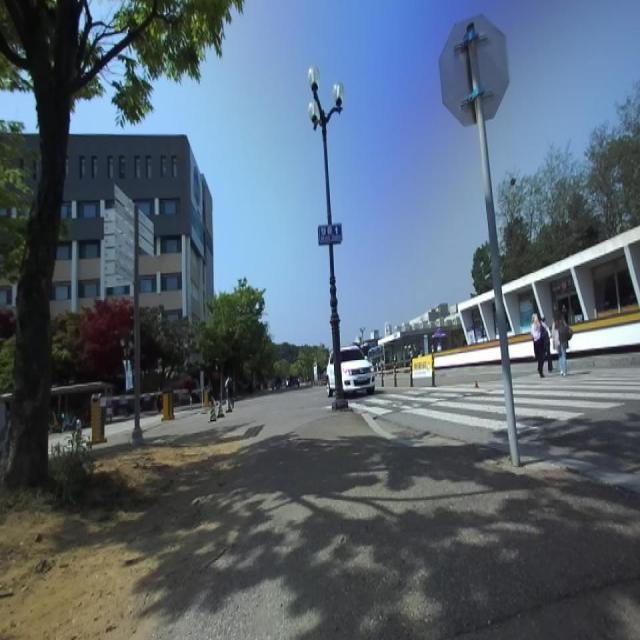sidewalk: (168, 410, 640, 639)
